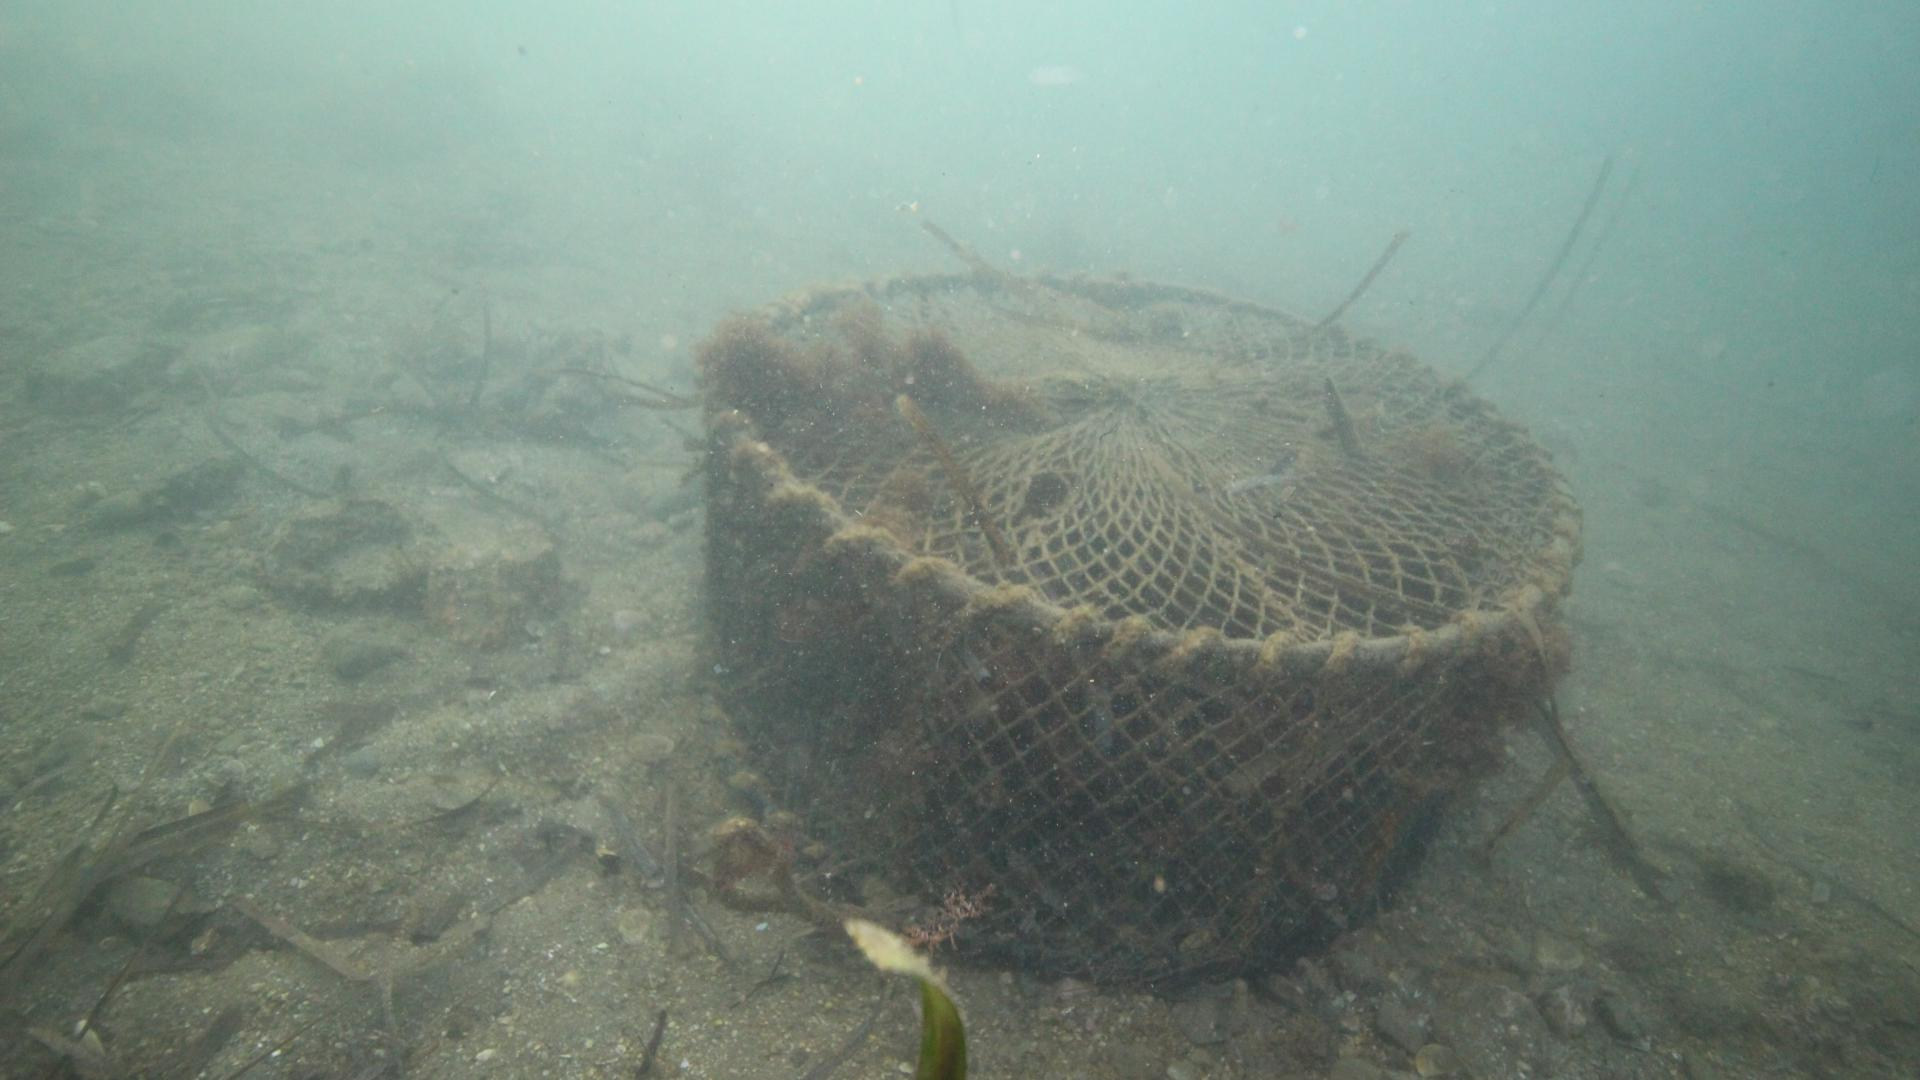circular fish trap: (696, 265, 1582, 992)
rope: (687, 812, 889, 930)
